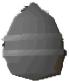egg2: (1, 1, 69, 81)
